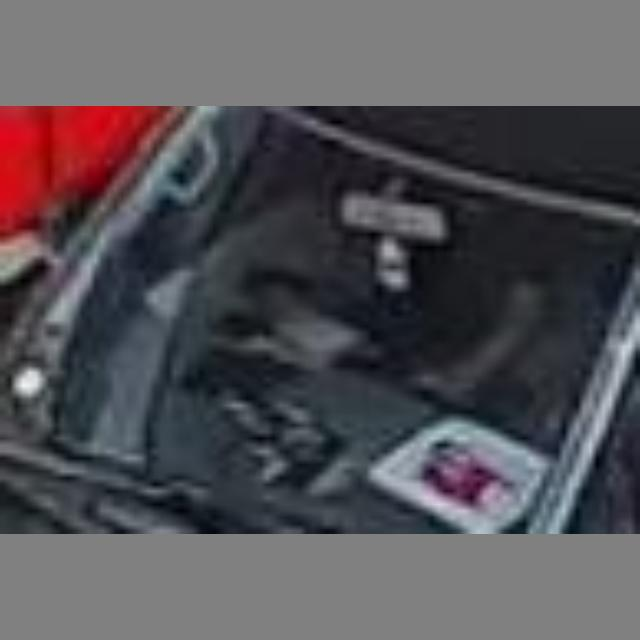tidak-pakai: (297, 179, 534, 383)
